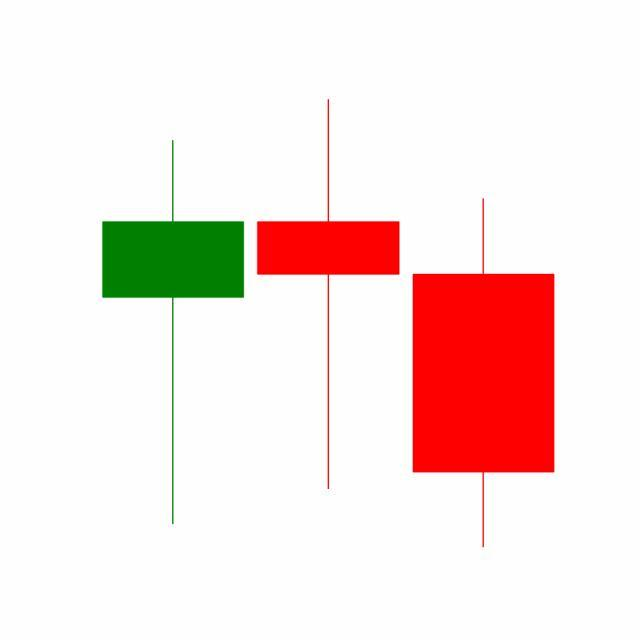Spinning Top: (250, 95, 407, 494)
